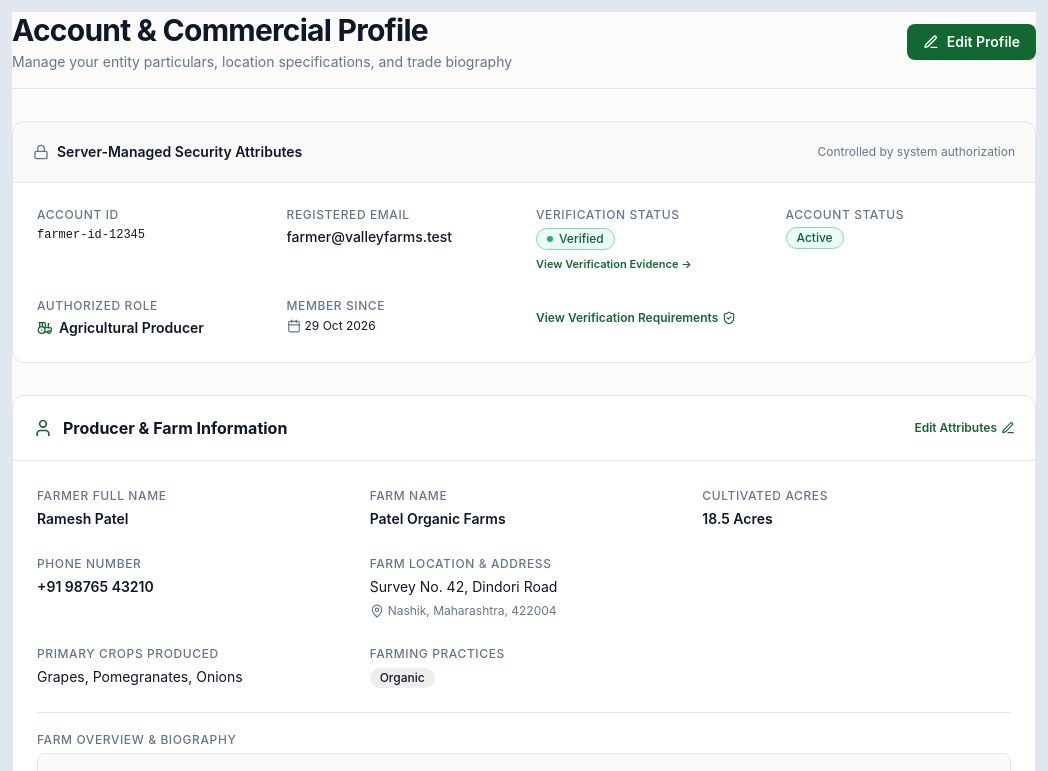
Test: ProfilePage › cancels edits and restores previous values
This screenshot has width=1048, height=771.
Click the button "Edit Profile" at coordinates (971, 42), box [907,24,1036,60]
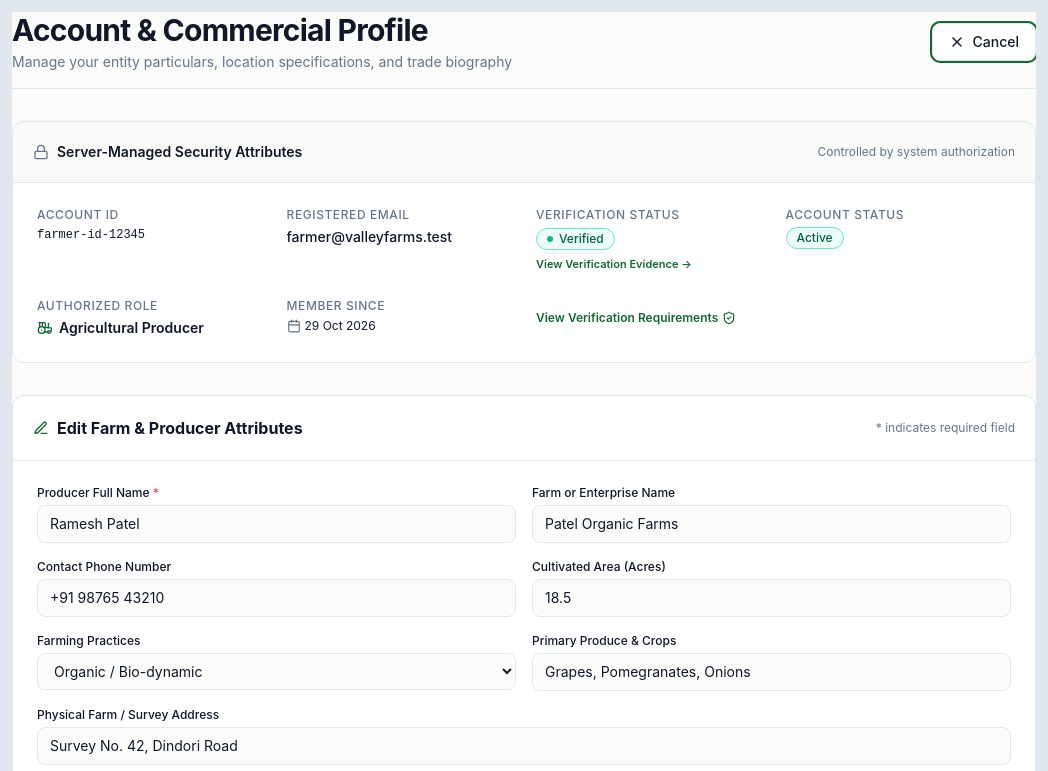
Replace the text in the field labelled "Producer Full Name *" with "Changed Name Before Cancel" at coordinates (276, 524), box [37,505,516,543]
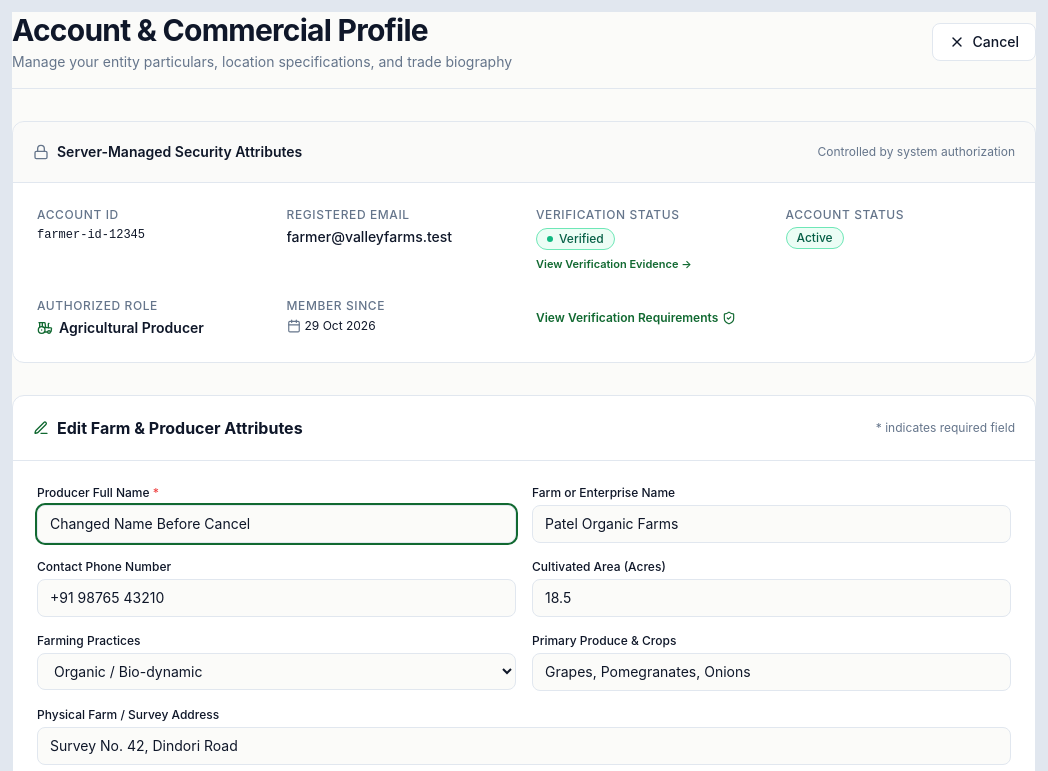
Click the button "Cancel" at coordinates (984, 42), box [932,23,1036,61]
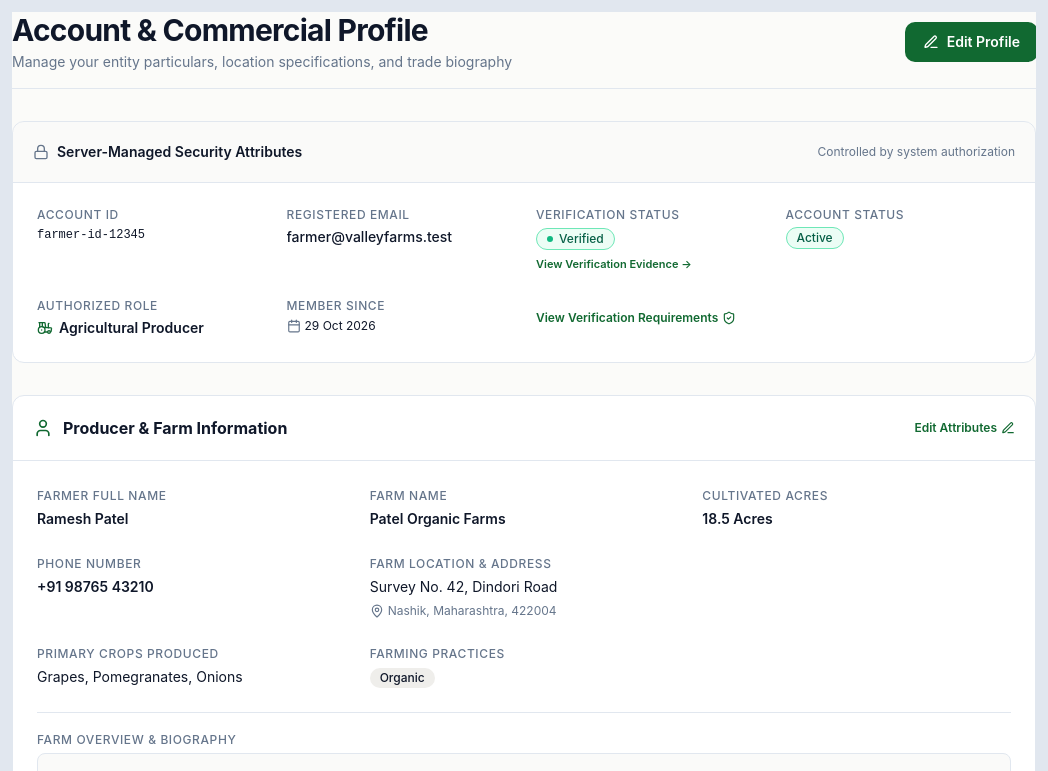
Expected: the text "Changed Name Before Cancel" is not shown
Result: the text "Ramesh Patel" is shown at [37,510,128,527]
